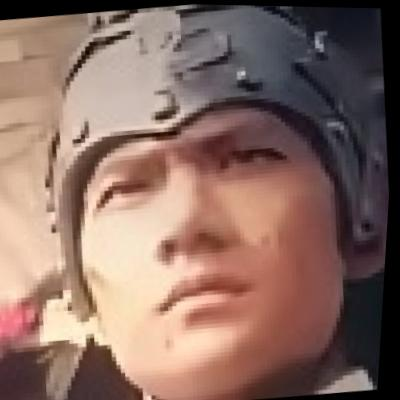angry: (60, 67, 355, 394)
